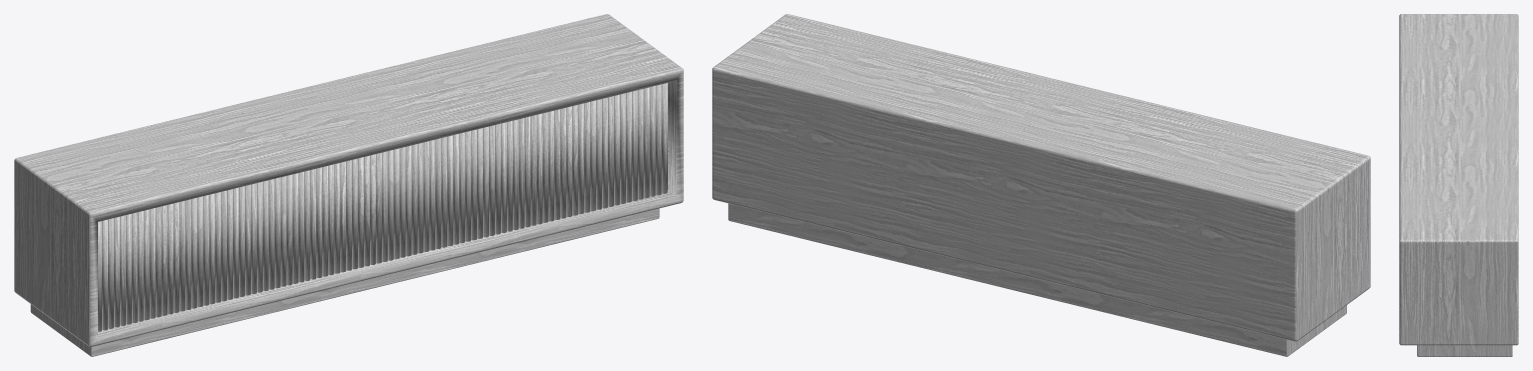
Rendered from tv-console-1.8m.gltf.
The picture shows the model from 3 angles, left to right: view 1: azimuth 30°, elevation 25°; view 2: azimuth 150°, elevation 25°; view 3: azimuth 270°, elevation 25°; orthographic projection. The views are drawn at different scales.
Parts seen in each view (by area): view 1: tv-console; view 2: tv-console; view 3: tv-console.
Part boxes in pixels (x1=…): tv-console: x1=14, y1=14, x2=683, y2=356; tv-console: x1=712, y1=14, x2=1370, y2=356; tv-console: x1=1399, y1=14, x2=1518, y2=356.
Bounding box in the file's own units: 1.8 × 0.45 × 0.4.
1 material, 1 textured.
